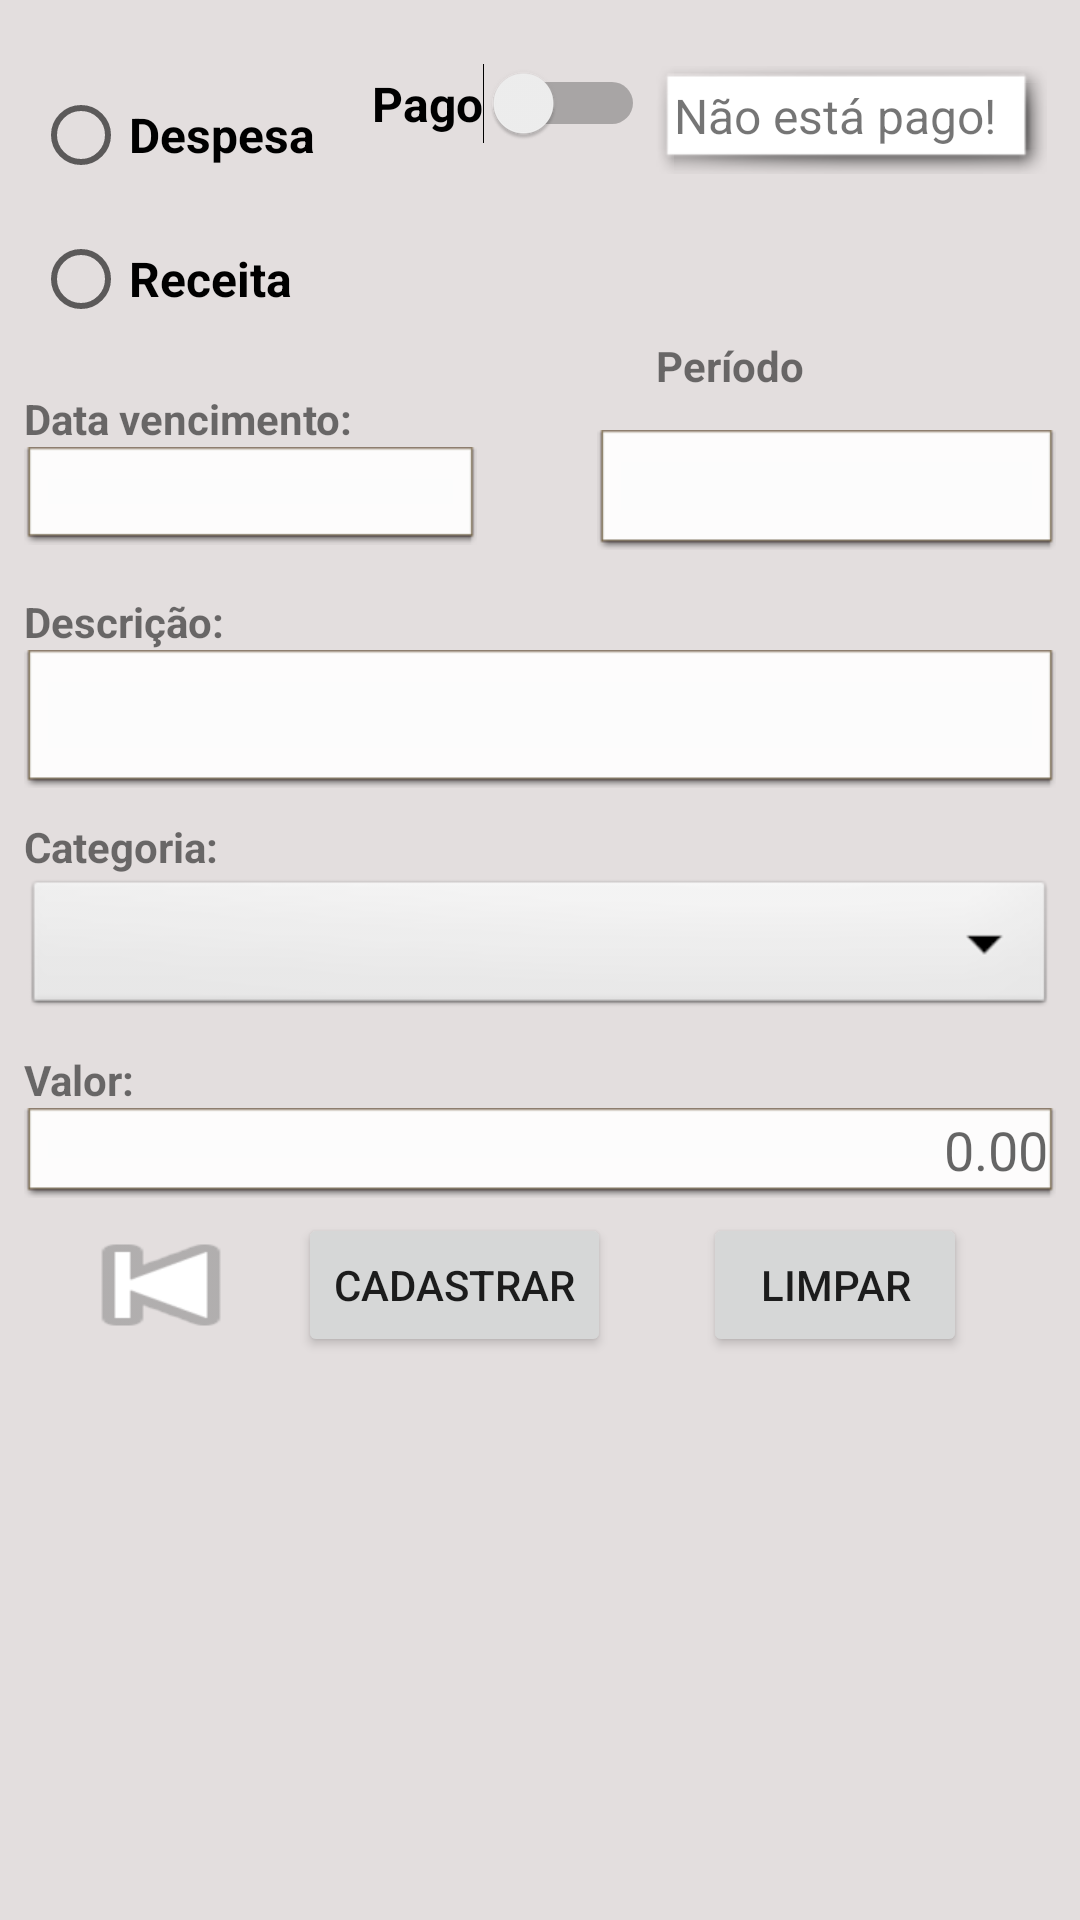

Screen size 1080 x 1920. Icon name, then its center in pixels as (x=x, y=y):
previous: (x=161, y=1285)
